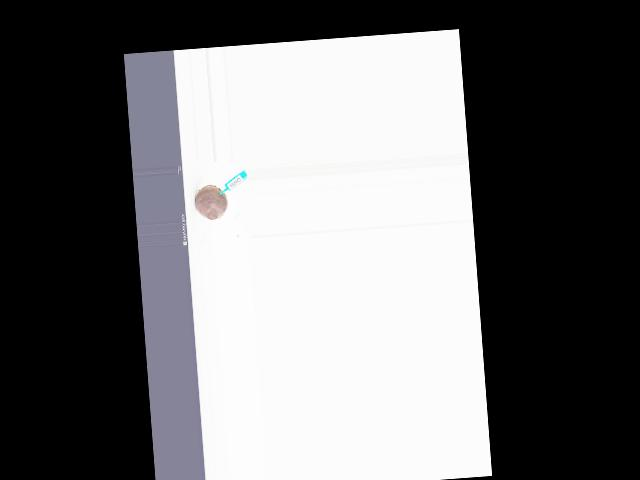beet: (193, 184, 228, 220)
